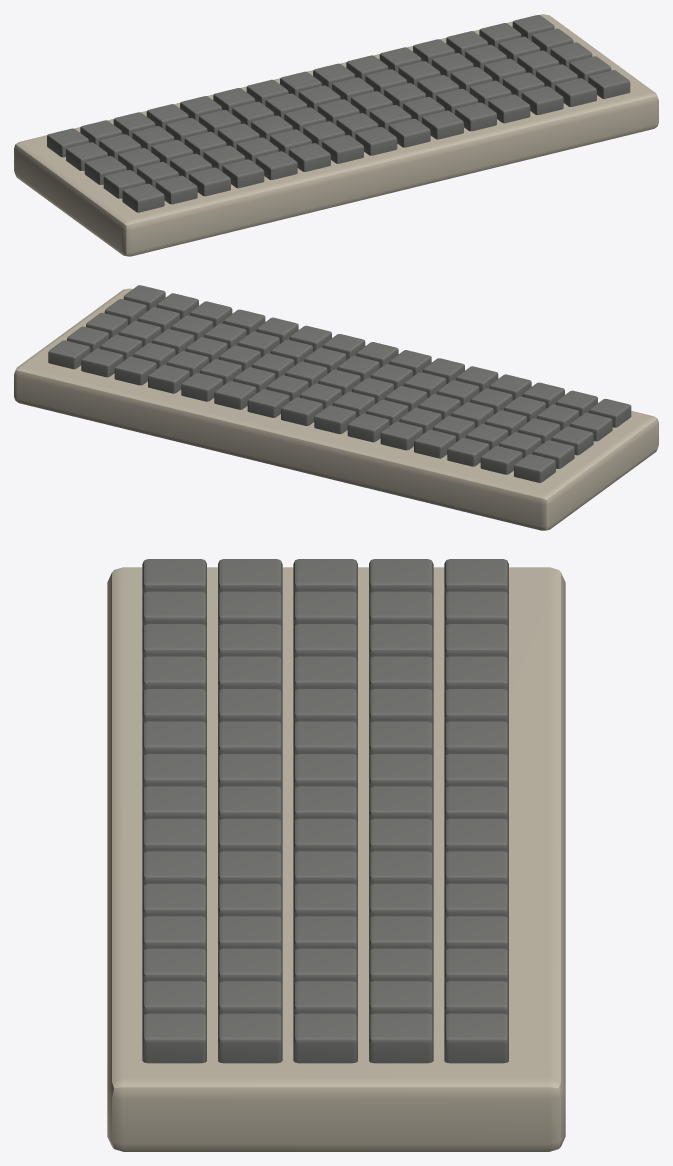
Rendered from SM_Keyboard.fbx.
3 renders of one model, top to bottom at view 1: azimuth 30°, elevation 25°; view 2: azimuth 150°, elevation 25°; view 3: azimuth 270°, elevation 25°, orthographic. The views are drawn at different scales.
Parts seen in each view (by area): view 1: SM_Keyboard_1; view 2: SM_Keyboard_1; view 3: SM_Keyboard_1.
Part boxes in pixels (x1=…): SM_Keyboard_1: x1=14, y1=14, x2=658, y2=256; SM_Keyboard_1: x1=14, y1=285, x2=658, y2=530; SM_Keyboard_1: x1=107, y1=559, x2=565, y2=1151.
Size of the model in its own units: 46 by 4 by 17.
